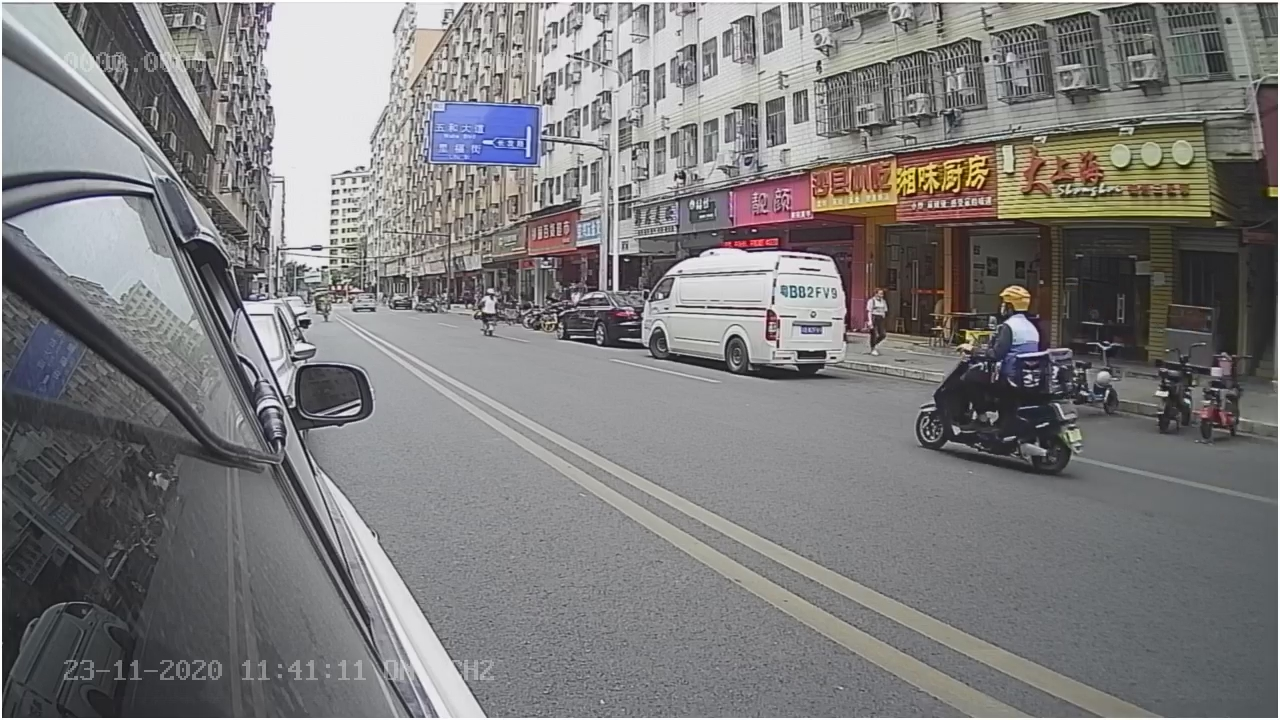person: (991, 284, 1044, 352)
